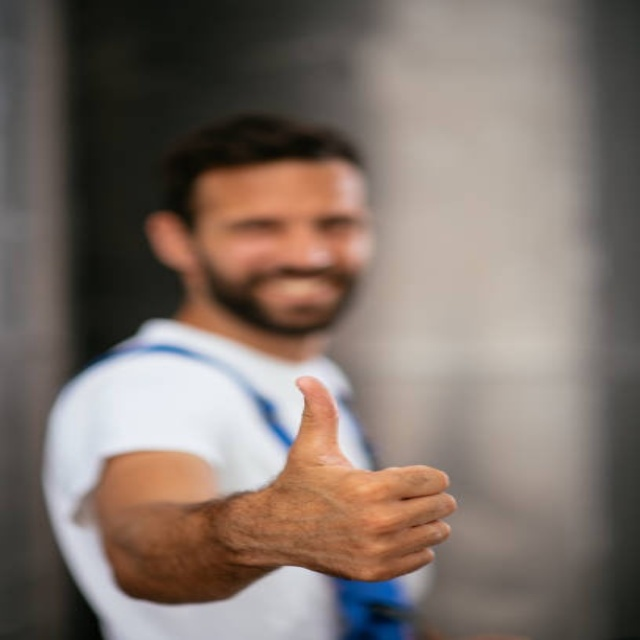Sin_gafas: (212, 200, 375, 245)
Sin_guantes: (212, 372, 460, 585)
Sin_mascara: (237, 264, 355, 323)
